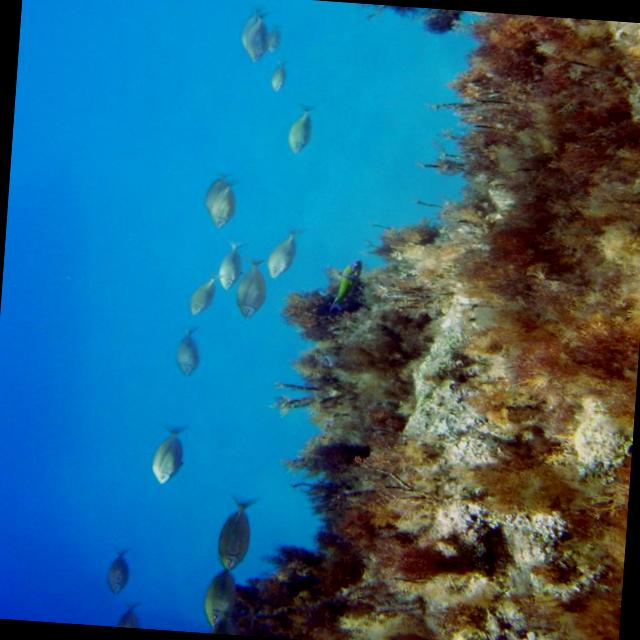Sokar Baligi: (140, 412, 203, 494), (194, 160, 248, 232), (277, 95, 333, 164), (91, 545, 141, 600)
